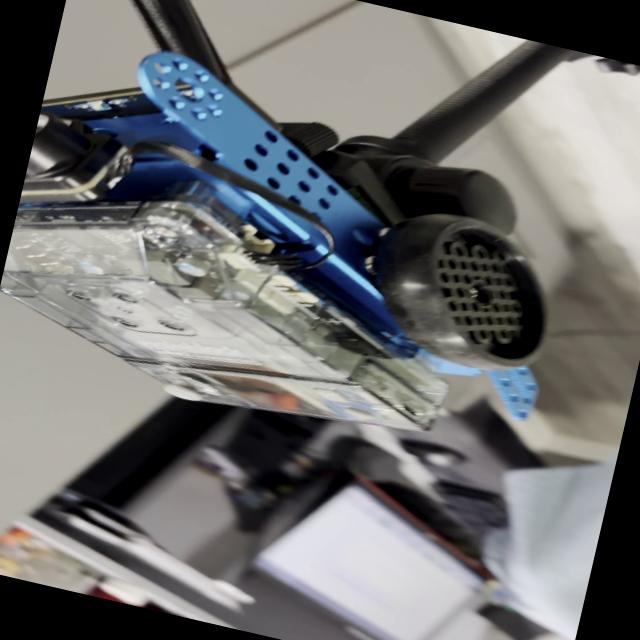mbot-detection: (0, 19, 601, 483)
